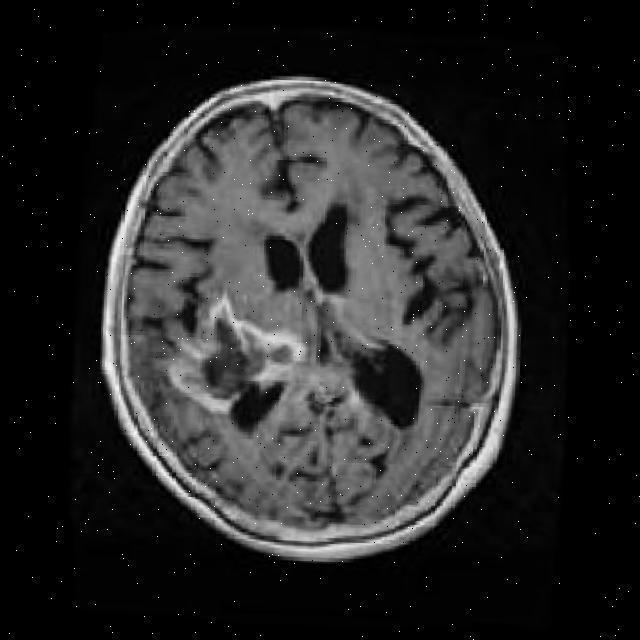EMCI: (162, 280, 256, 426)
